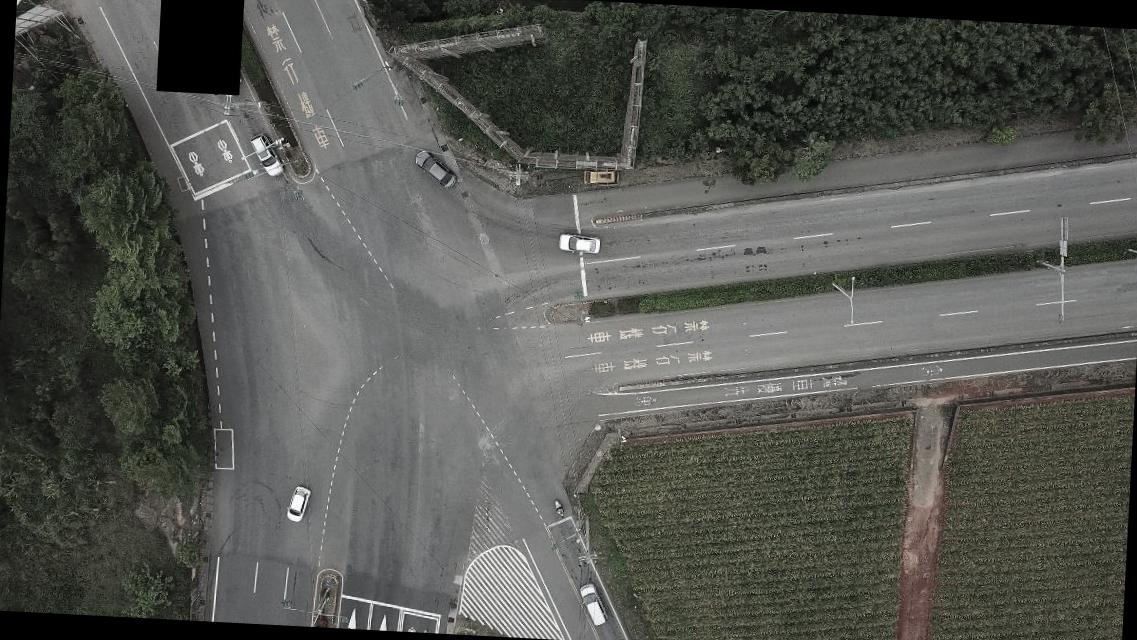vehicle: (414, 150, 458, 191), (248, 131, 284, 178), (577, 581, 607, 627), (283, 486, 312, 524), (556, 232, 602, 252), (580, 168, 618, 186)
